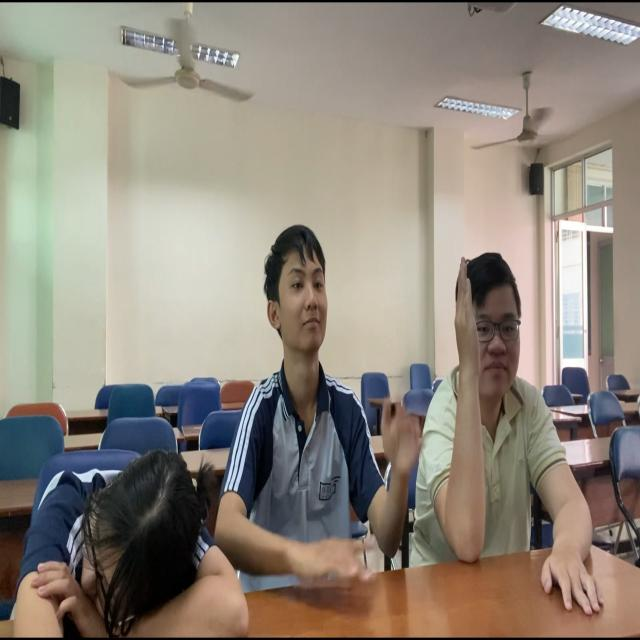raise_hand: (427, 239, 594, 609)
sleep: (1, 431, 263, 640)
